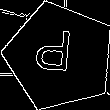P_S: (38, 30, 81, 83)
